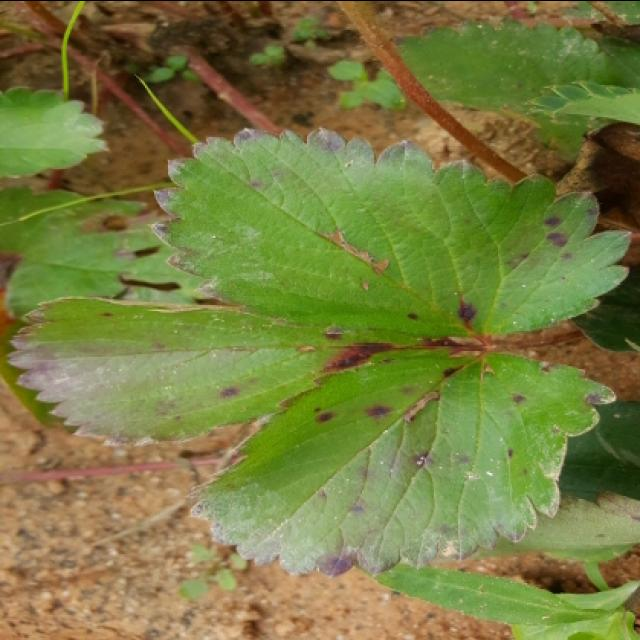Leaf Spot: (146, 123, 634, 337), (184, 344, 618, 578), (2, 296, 477, 445)
